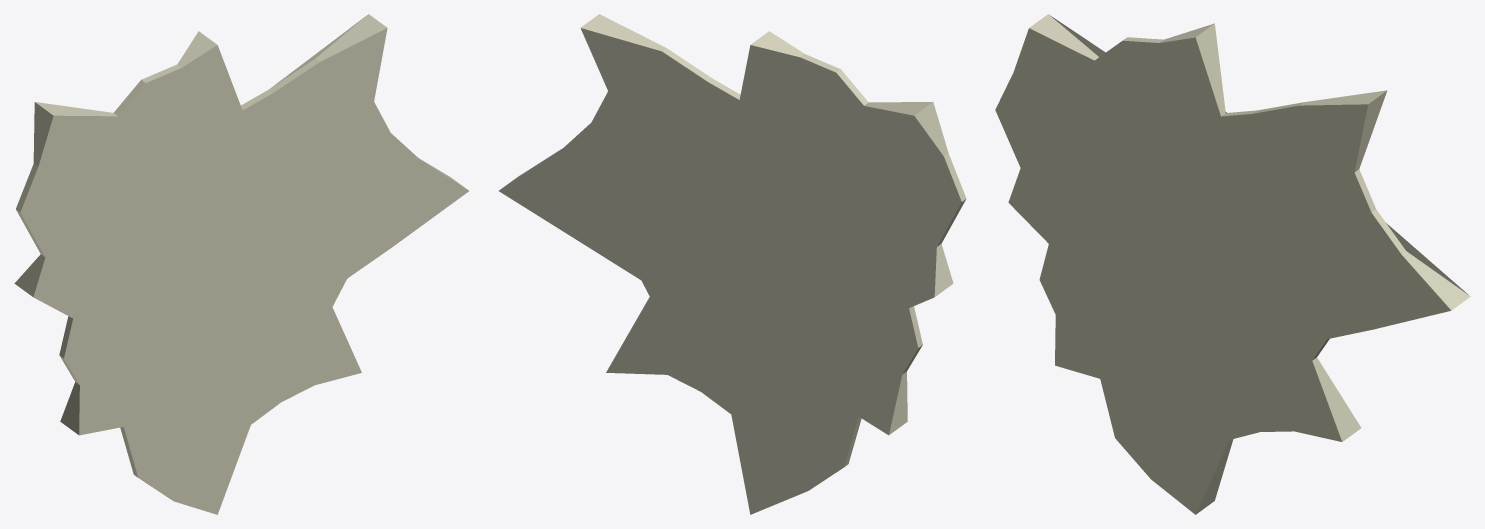
Rendered from Splash.fbx.
3 renders of one model, left to right at view 1: azimuth 30°, elevation 25°; view 2: azimuth 150°, elevation 25°; view 3: azimuth 330°, elevation 25°, orthographic.
Visible parts, largest first — view 1: BrushingSplash; view 2: BrushingSplash; view 3: BrushingSplash.
Boxes of the visible parts, bbox=[...] form: BrushingSplash: bbox=[14, 14, 468, 514]; BrushingSplash: bbox=[499, 14, 966, 514]; BrushingSplash: bbox=[995, 14, 1470, 514].
Size of the model in its own units: 1 by 1 by 0.073.
